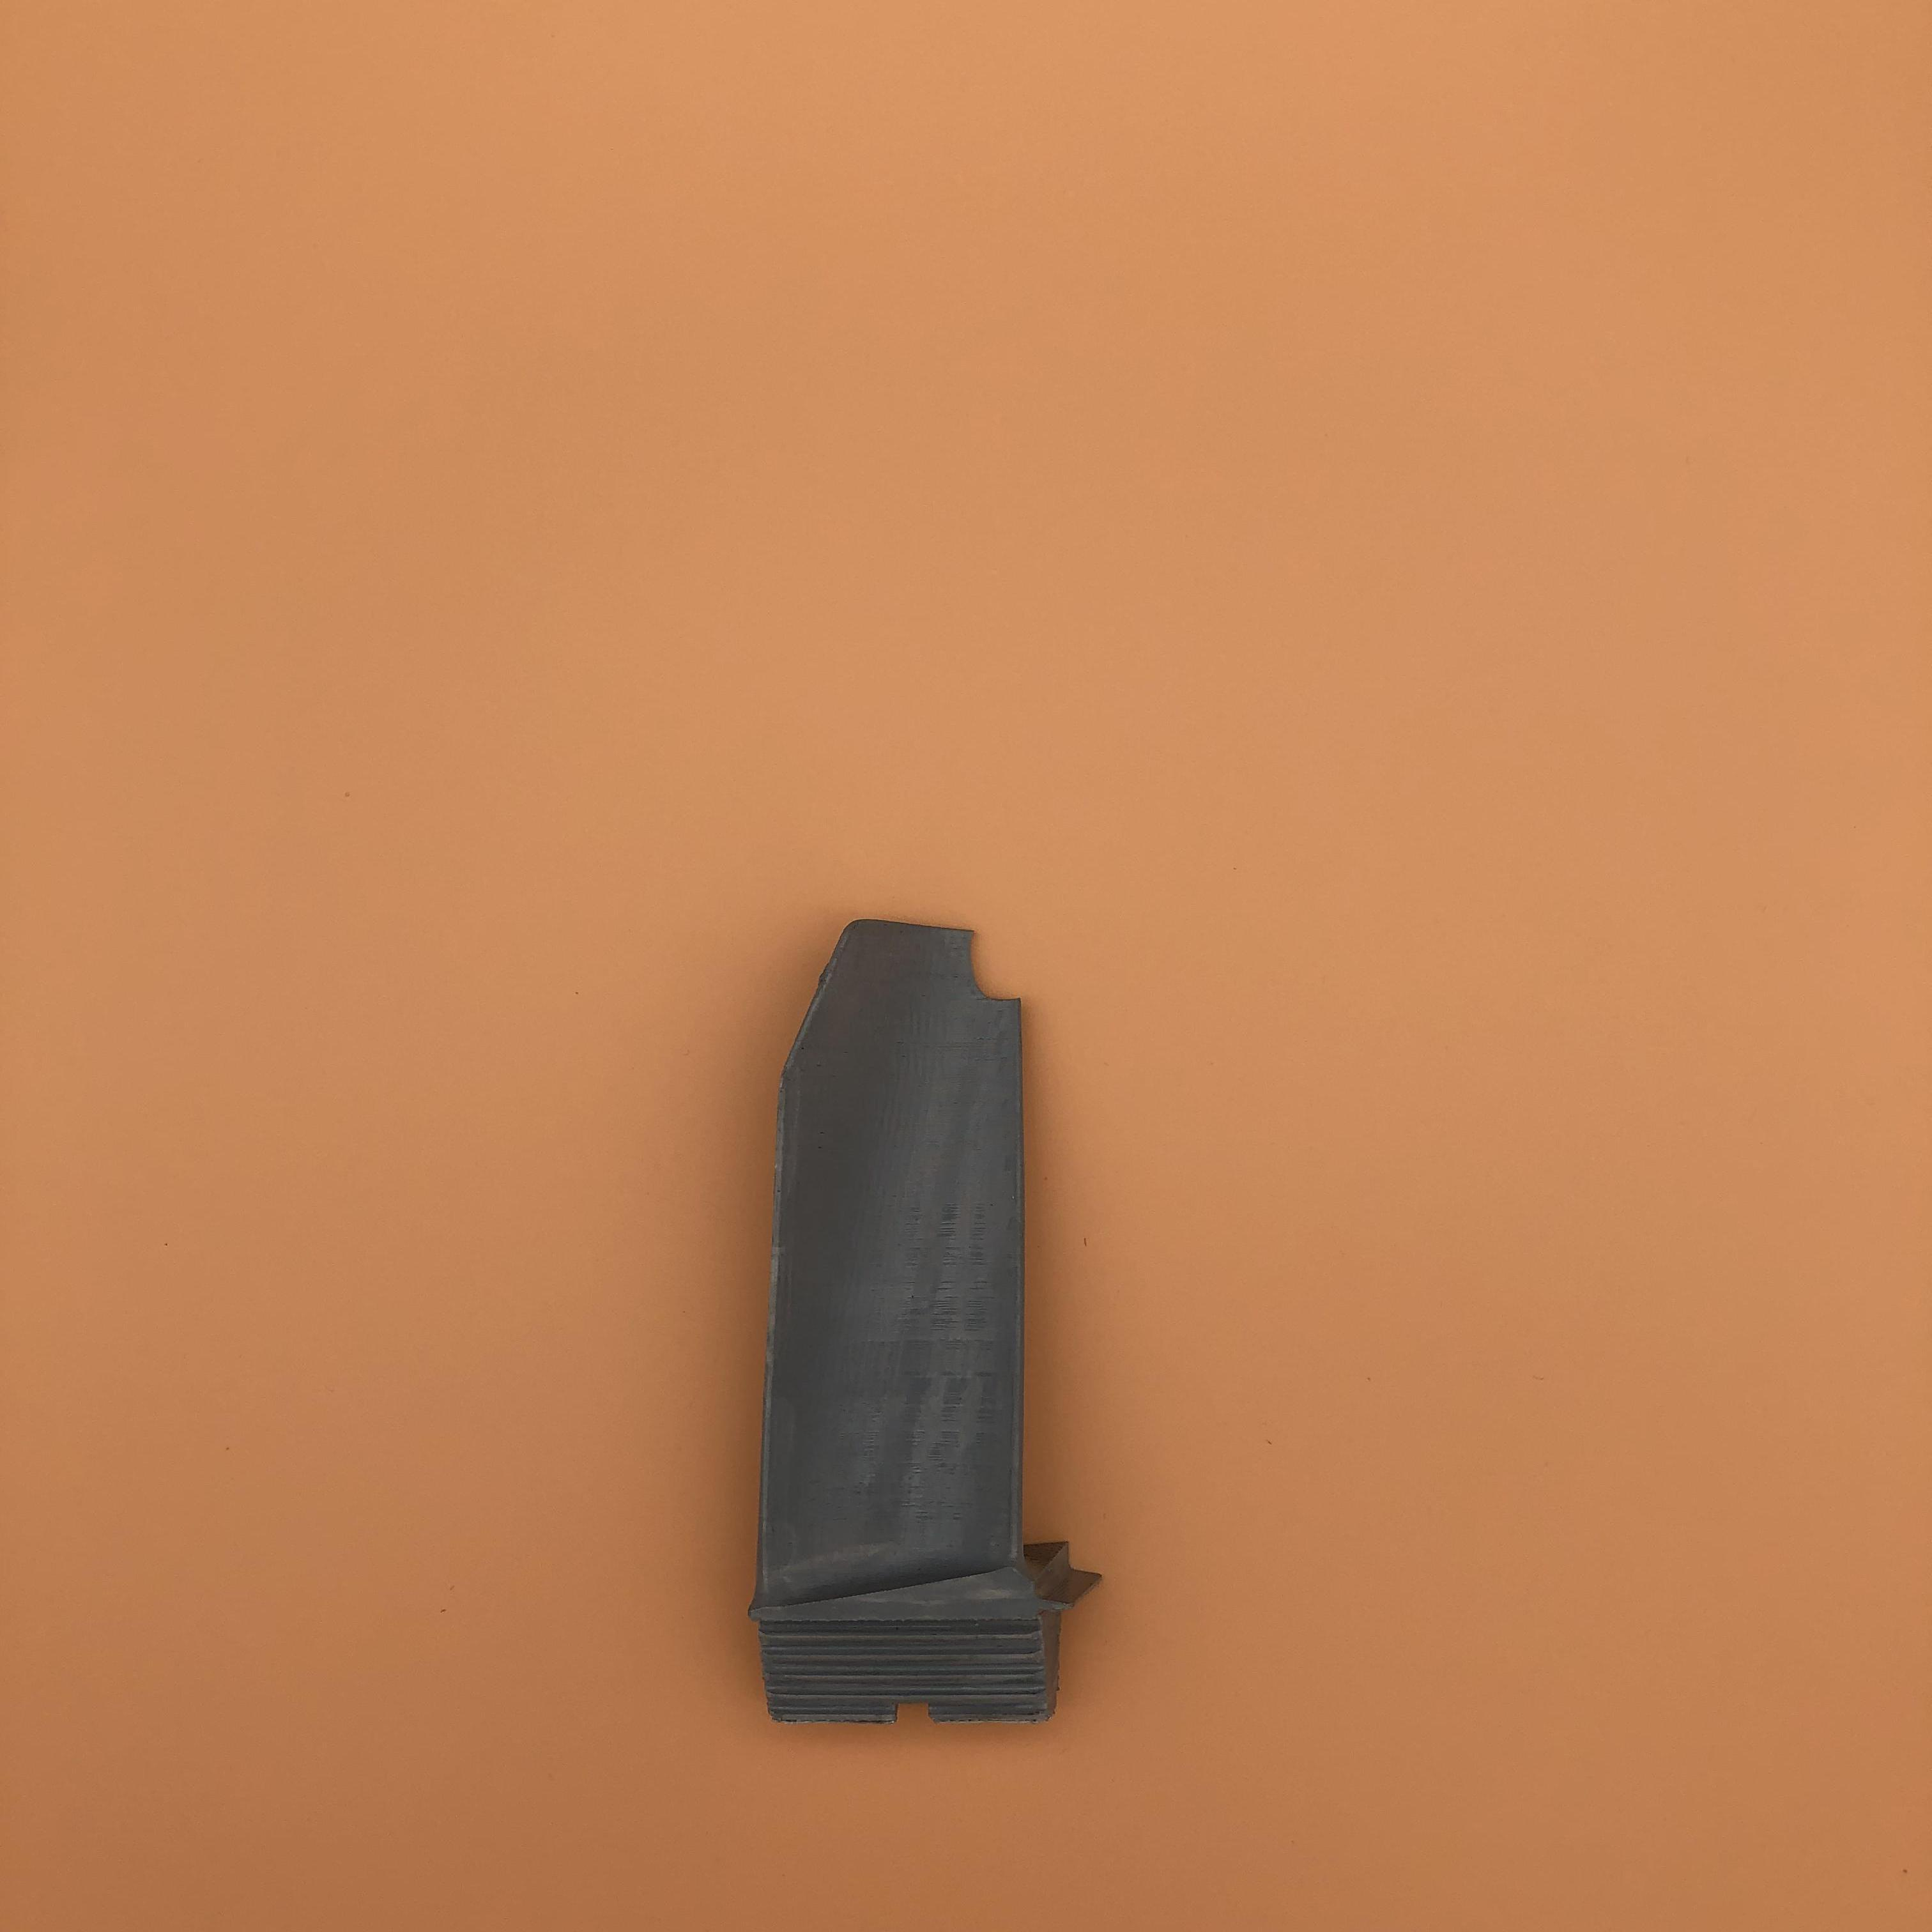fracture: (959, 925, 1044, 1014)
